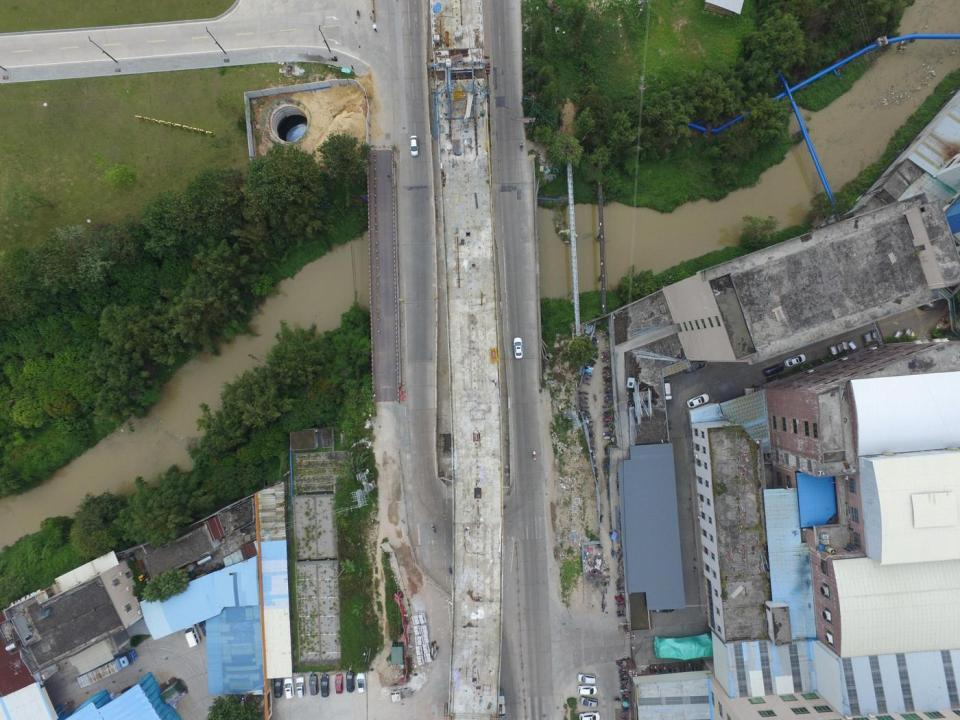car: (686, 393, 710, 409), (652, 600, 675, 613), (355, 672, 368, 693), (512, 336, 524, 358), (318, 675, 330, 697), (576, 672, 596, 685), (408, 135, 420, 156), (283, 678, 294, 700), (295, 676, 306, 698), (662, 376, 672, 400), (307, 674, 318, 695), (579, 696, 598, 708), (273, 675, 283, 697), (577, 685, 598, 695), (578, 711, 601, 720), (334, 674, 344, 694), (346, 672, 355, 693)
truck: (76, 650, 137, 690)
van: (184, 624, 201, 647)
